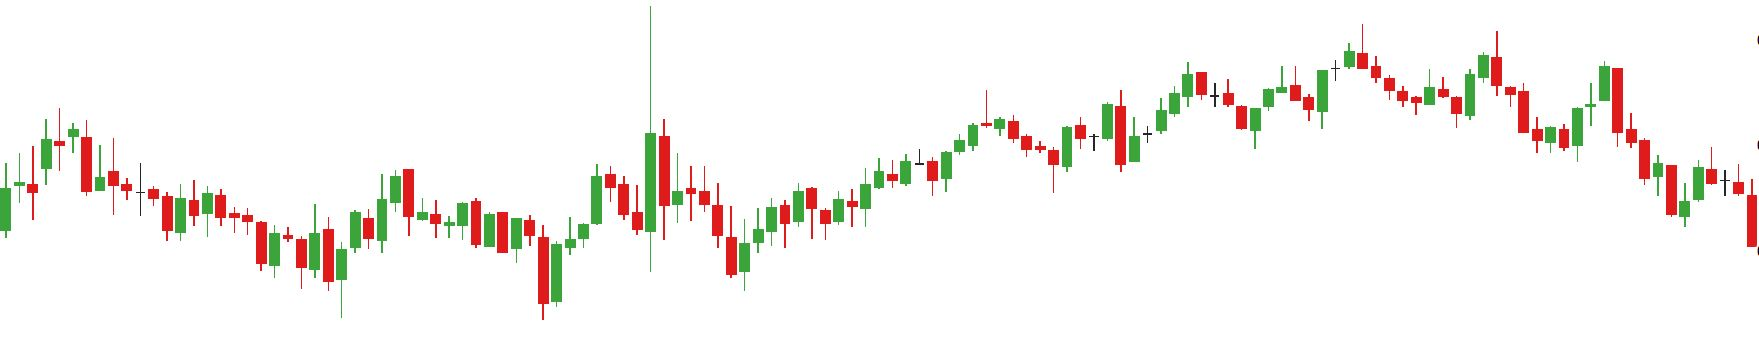buy: (335, 218, 564, 324)
sell: (1422, 28, 1505, 105)
